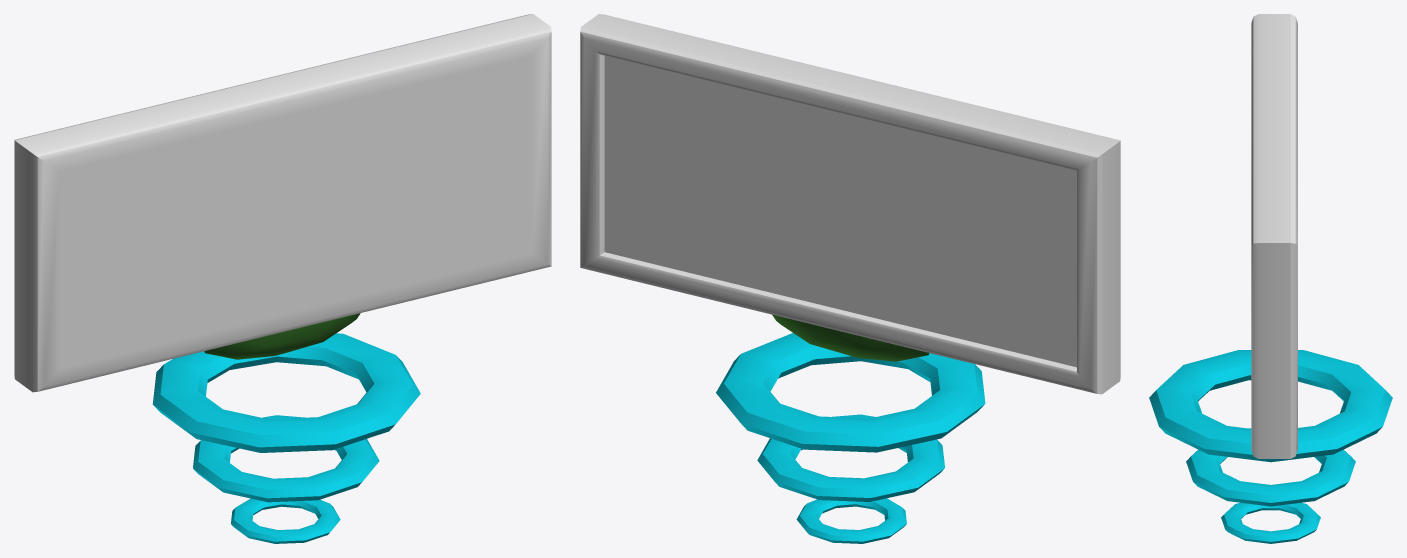
The model's file is Sign.fbx.
The picture shows the model from 3 angles, left to right: view 1: azimuth 30°, elevation 25°; view 2: azimuth 150°, elevation 25°; view 3: azimuth 270°, elevation 25°; orthographic projection. The views are drawn at different scales.
Visible parts, largest first — view 1: Cube.003; view 2: Cube.003; view 3: Cube.003.
Boxes of the visible parts, x1=… form: Cube.003: x1=14, y1=14, x2=551, y2=543; Cube.003: x1=580, y1=14, x2=1120, y2=543; Cube.003: x1=1149, y1=14, x2=1392, y2=543.
Bounding box in the file's own units: 550 × 444 × 247.
